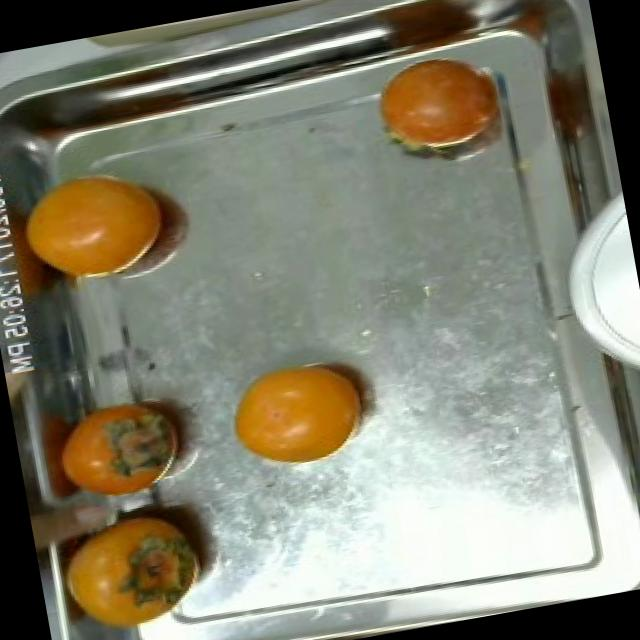Fruit: (32, 487, 226, 640), (7, 148, 186, 302), (25, 373, 202, 517), (210, 342, 387, 482), (356, 42, 524, 184)
